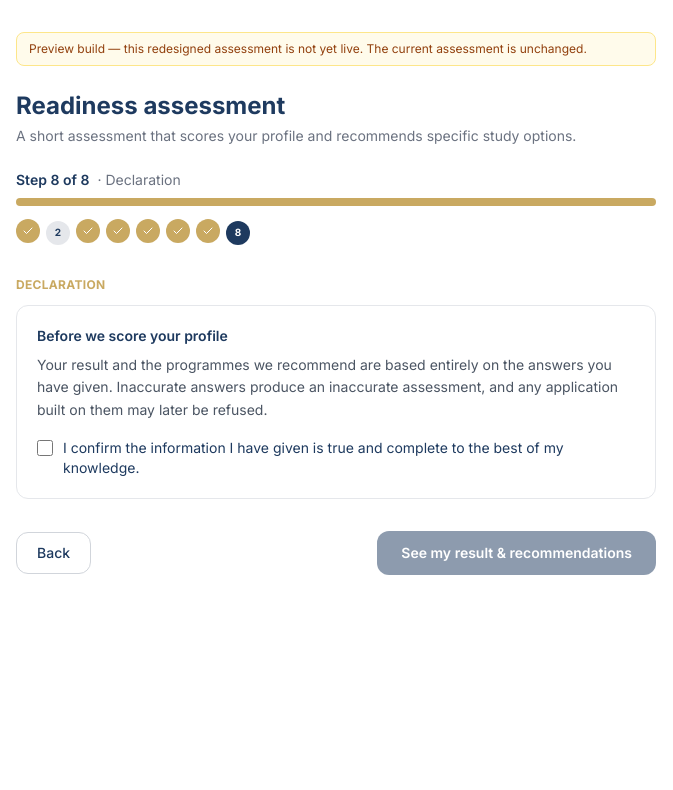
Test: 3. Submit re-validates every step › sends the applicant back to the offending step instead of failing silently
Click the checkbox at (45, 448), box [37,440,53,456]
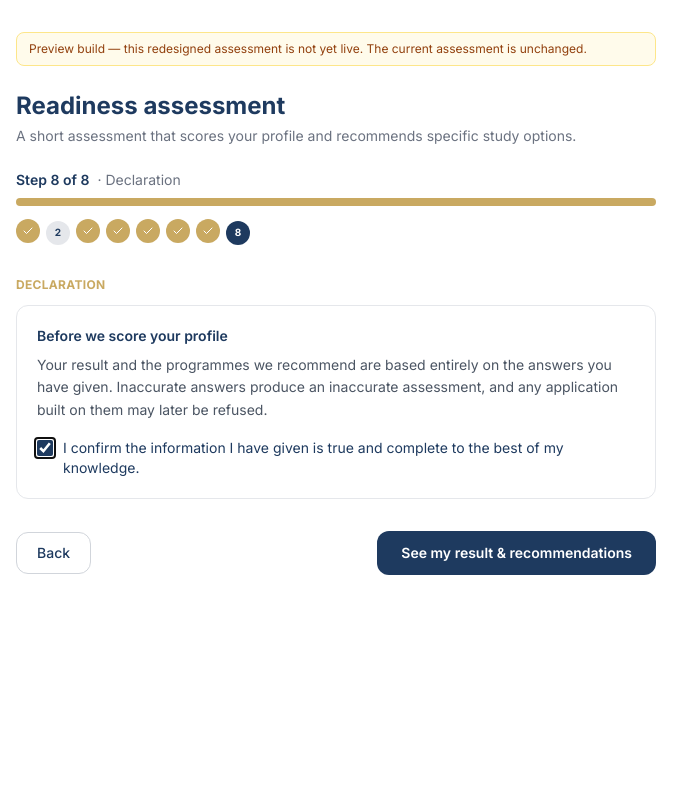
Click the button "See my result & recommendations" at (517, 553), box [377,531,656,575]
(page scrolled)
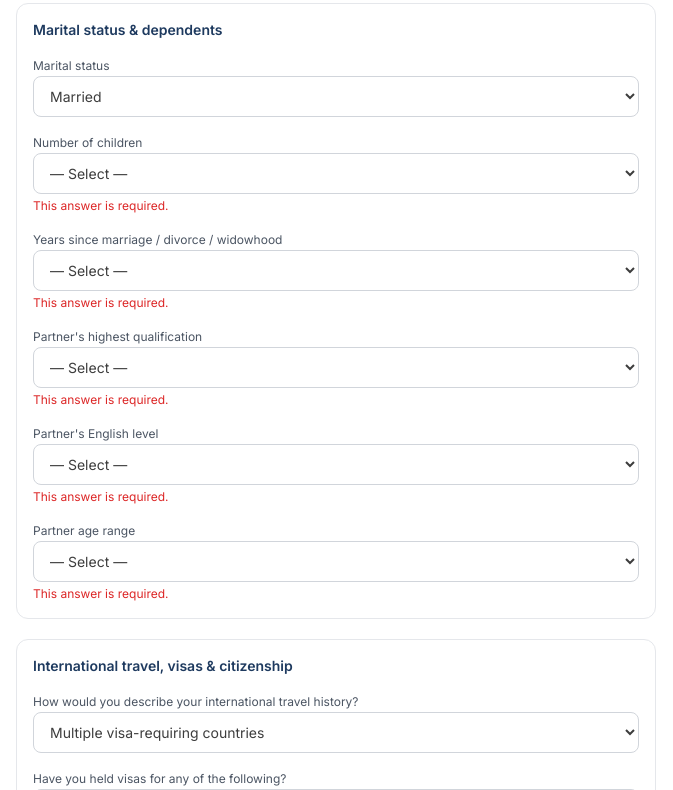
Now the message with test id "error-q10_partner_edu" is shown, box [33,392,168,407]
